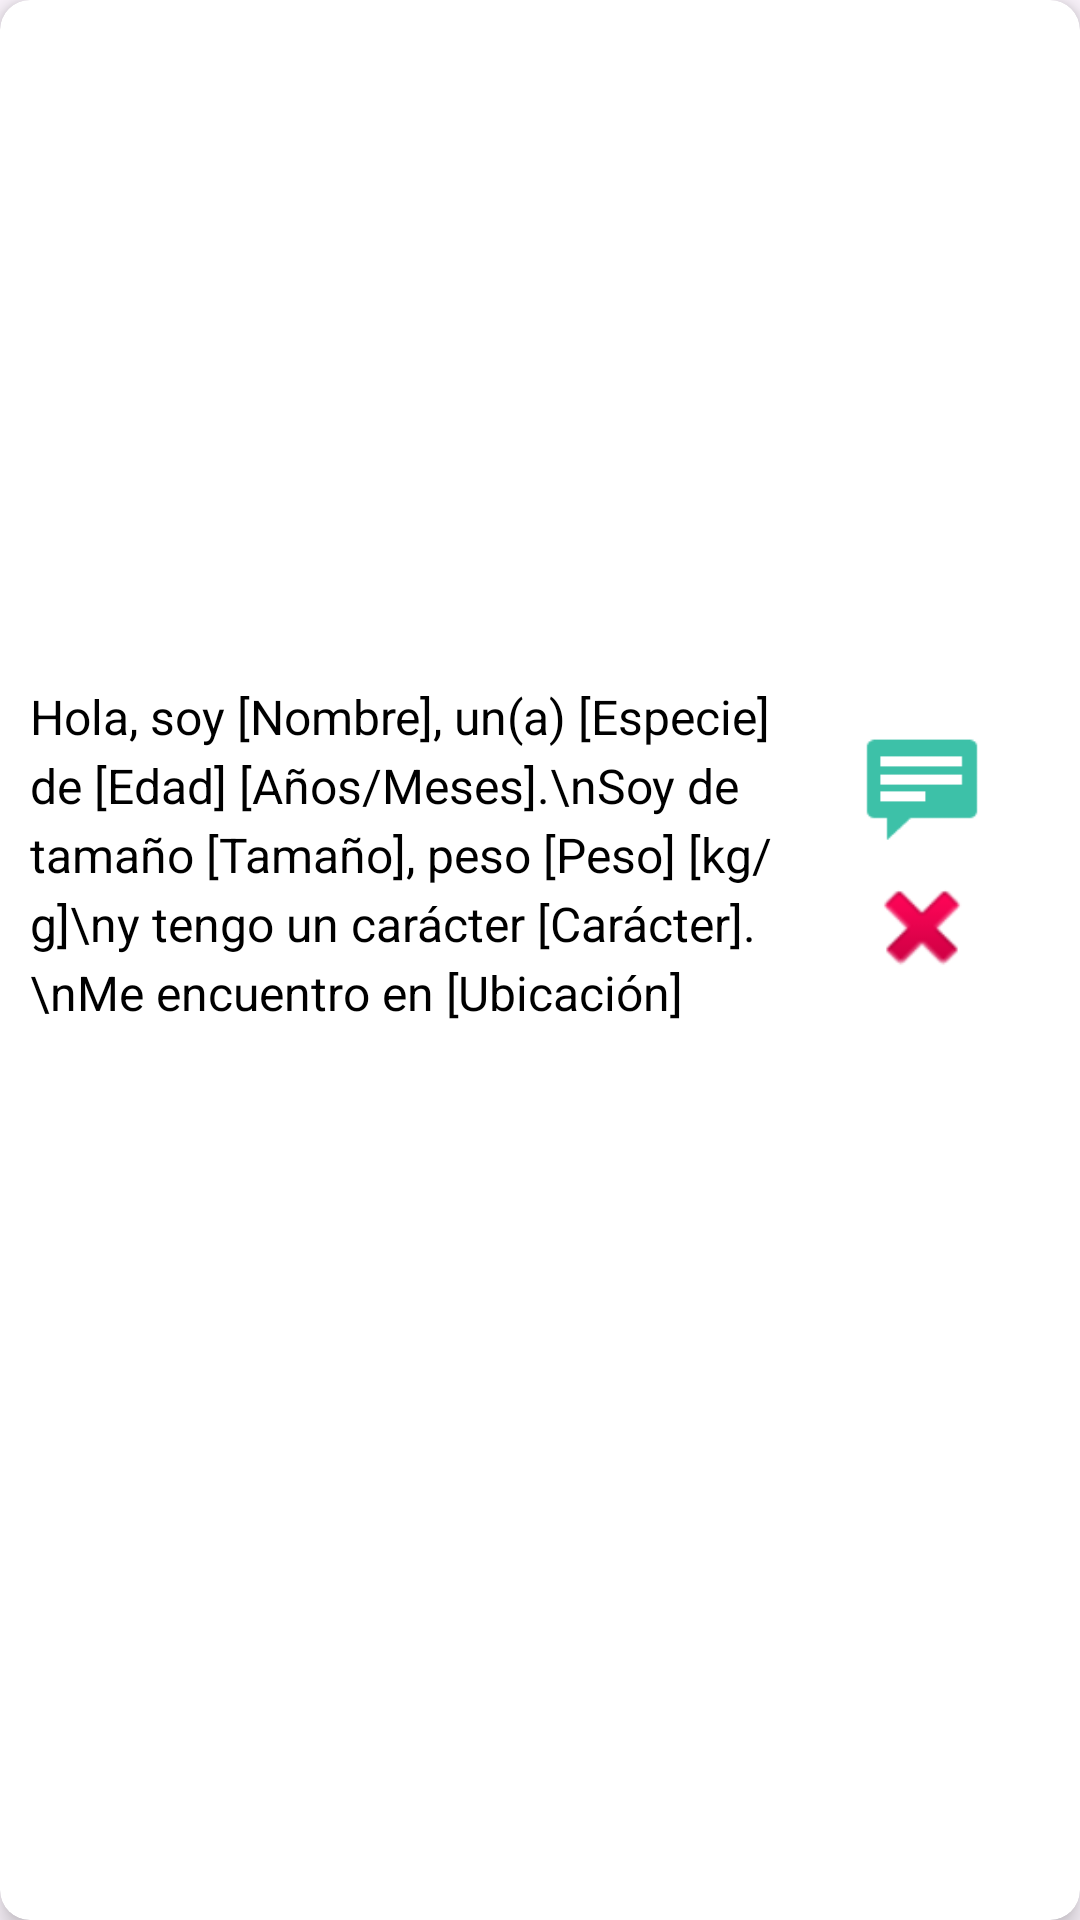

Icon click points for this 1080 × 1920 phone screenshot, format [x,y]:
Eliminar mascota: [922,928]
